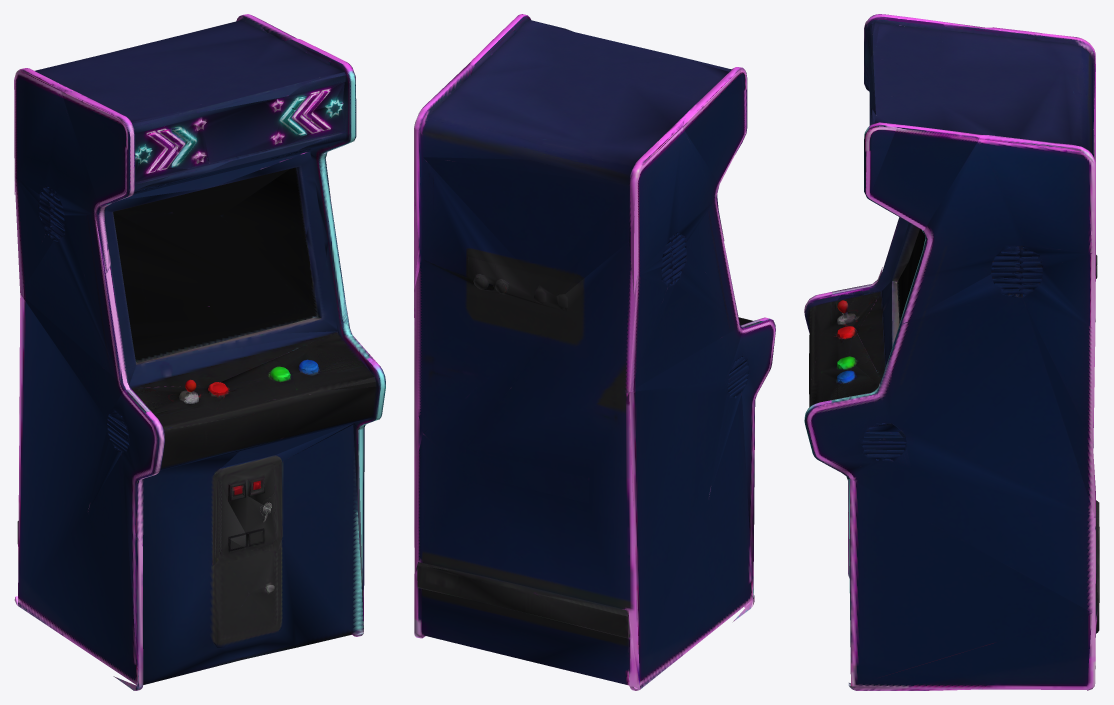
File: ArcadeDance.fbx
3 views of the same model, side by side, from view 1: azimuth 30°, elevation 25°; view 2: azimuth 150°, elevation 25°; view 3: azimuth 270°, elevation 25° (orthographic). The views are drawn at different scales.
Parts seen in each view (by area): view 1: Mesh_0; view 2: Mesh_0; view 3: Mesh_0.
Part boxes in pixels (x1,y1,x2,y2): Mesh_0: [14, 14, 385, 690]; Mesh_0: [414, 14, 775, 690]; Mesh_0: [804, 14, 1099, 690].
Size of the model in its own units: 81.01 by 190 by 89.68.
1 material, 1 textured.
